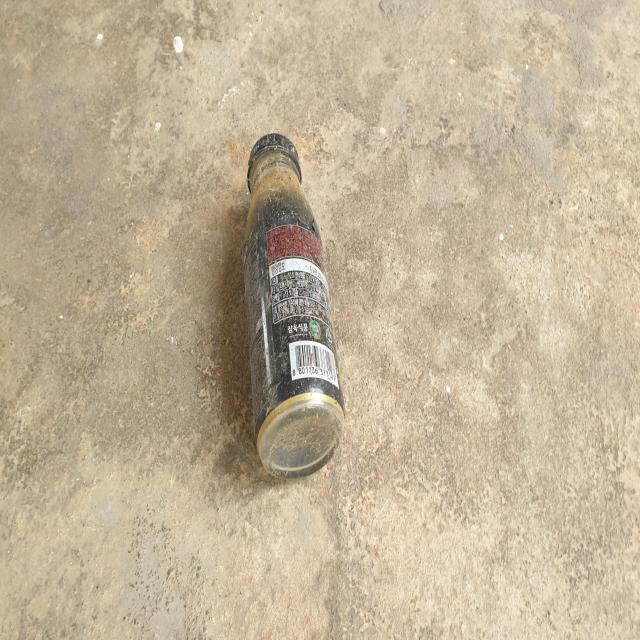glass: (242, 132, 345, 479)
